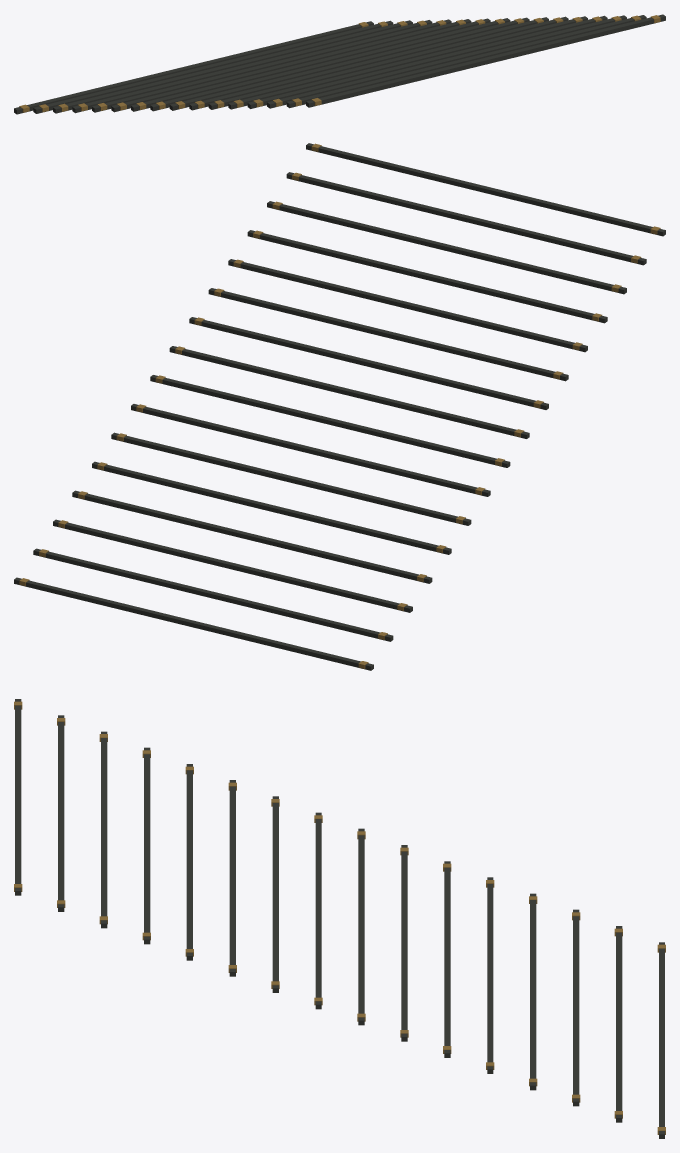
File: stair_treads_16.glb
3 renders of one model, top to bottom at view 1: azimuth 30°, elevation 25°; view 2: azimuth 150°, elevation 25°; view 3: azimuth 270°, elevation 25°, orthographic. The views are drawn at different scales.
Visible parts, largest first — view 1: stair_treads_16; view 2: stair_treads_16; view 3: stair_treads_16.
Boxes of the visible parts, bbox=[...] form: stair_treads_16: bbox=[14, 14, 665, 114]; stair_treads_16: bbox=[14, 143, 665, 670]; stair_treads_16: bbox=[14, 699, 665, 1138].
Bounding box in the file's own units: 7.94 × 4.79 × 11.39.
